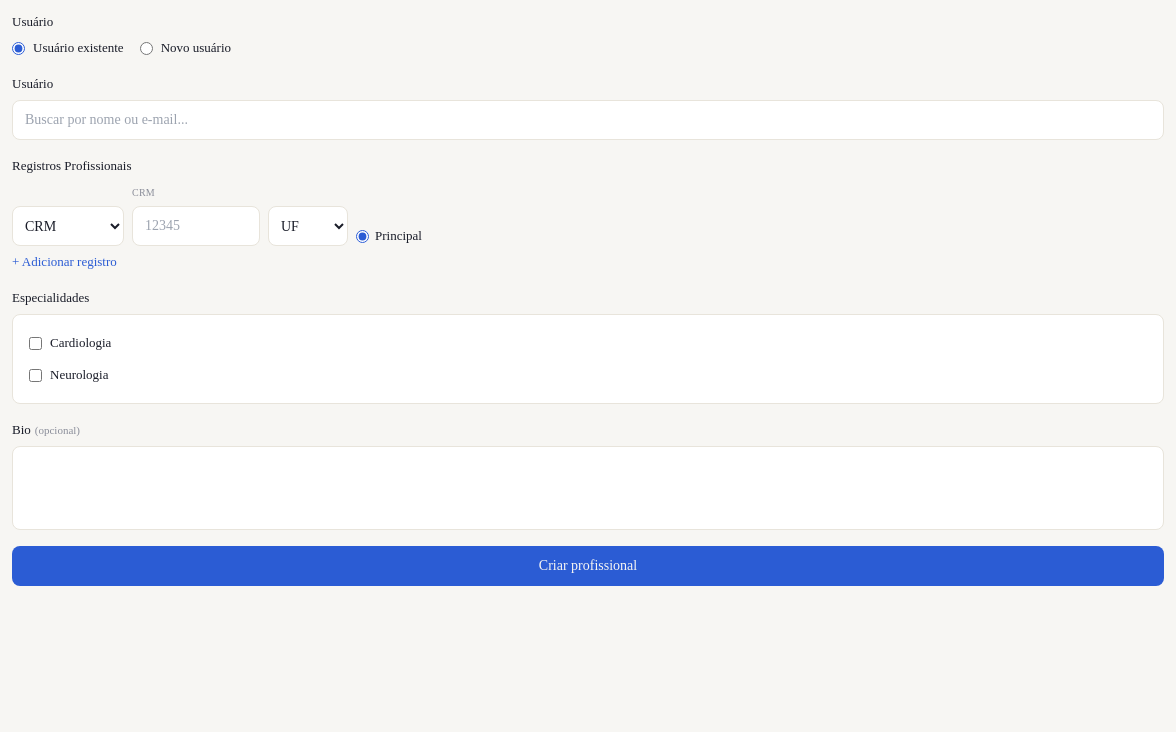
Test: ProfessionalForm (integration) — create mode › switches to fullName + email fields when new user mode is selected
The width and height of the screenshot is (1176, 732).
Step 1. Click the radio button with test id "professional-form-user-mode-new" → coordinates (146, 48), box x1=140 y1=42 x2=153 y2=54
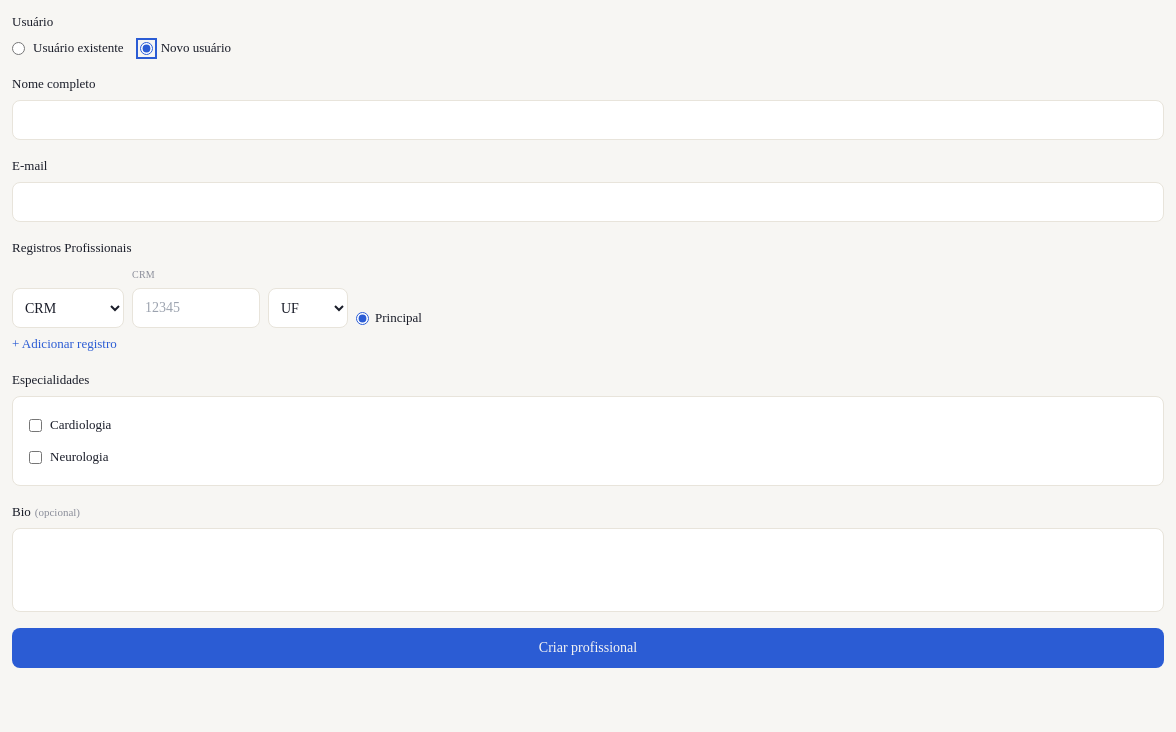
expect the field with test id "professional-form-user-search" is gone: met
expect the field with test id "professional-form-fullname" is shown: met, box x1=12 y1=100 x2=1164 y2=140
expect the field with test id "professional-form-email" is shown: met, box x1=12 y1=182 x2=1164 y2=222
